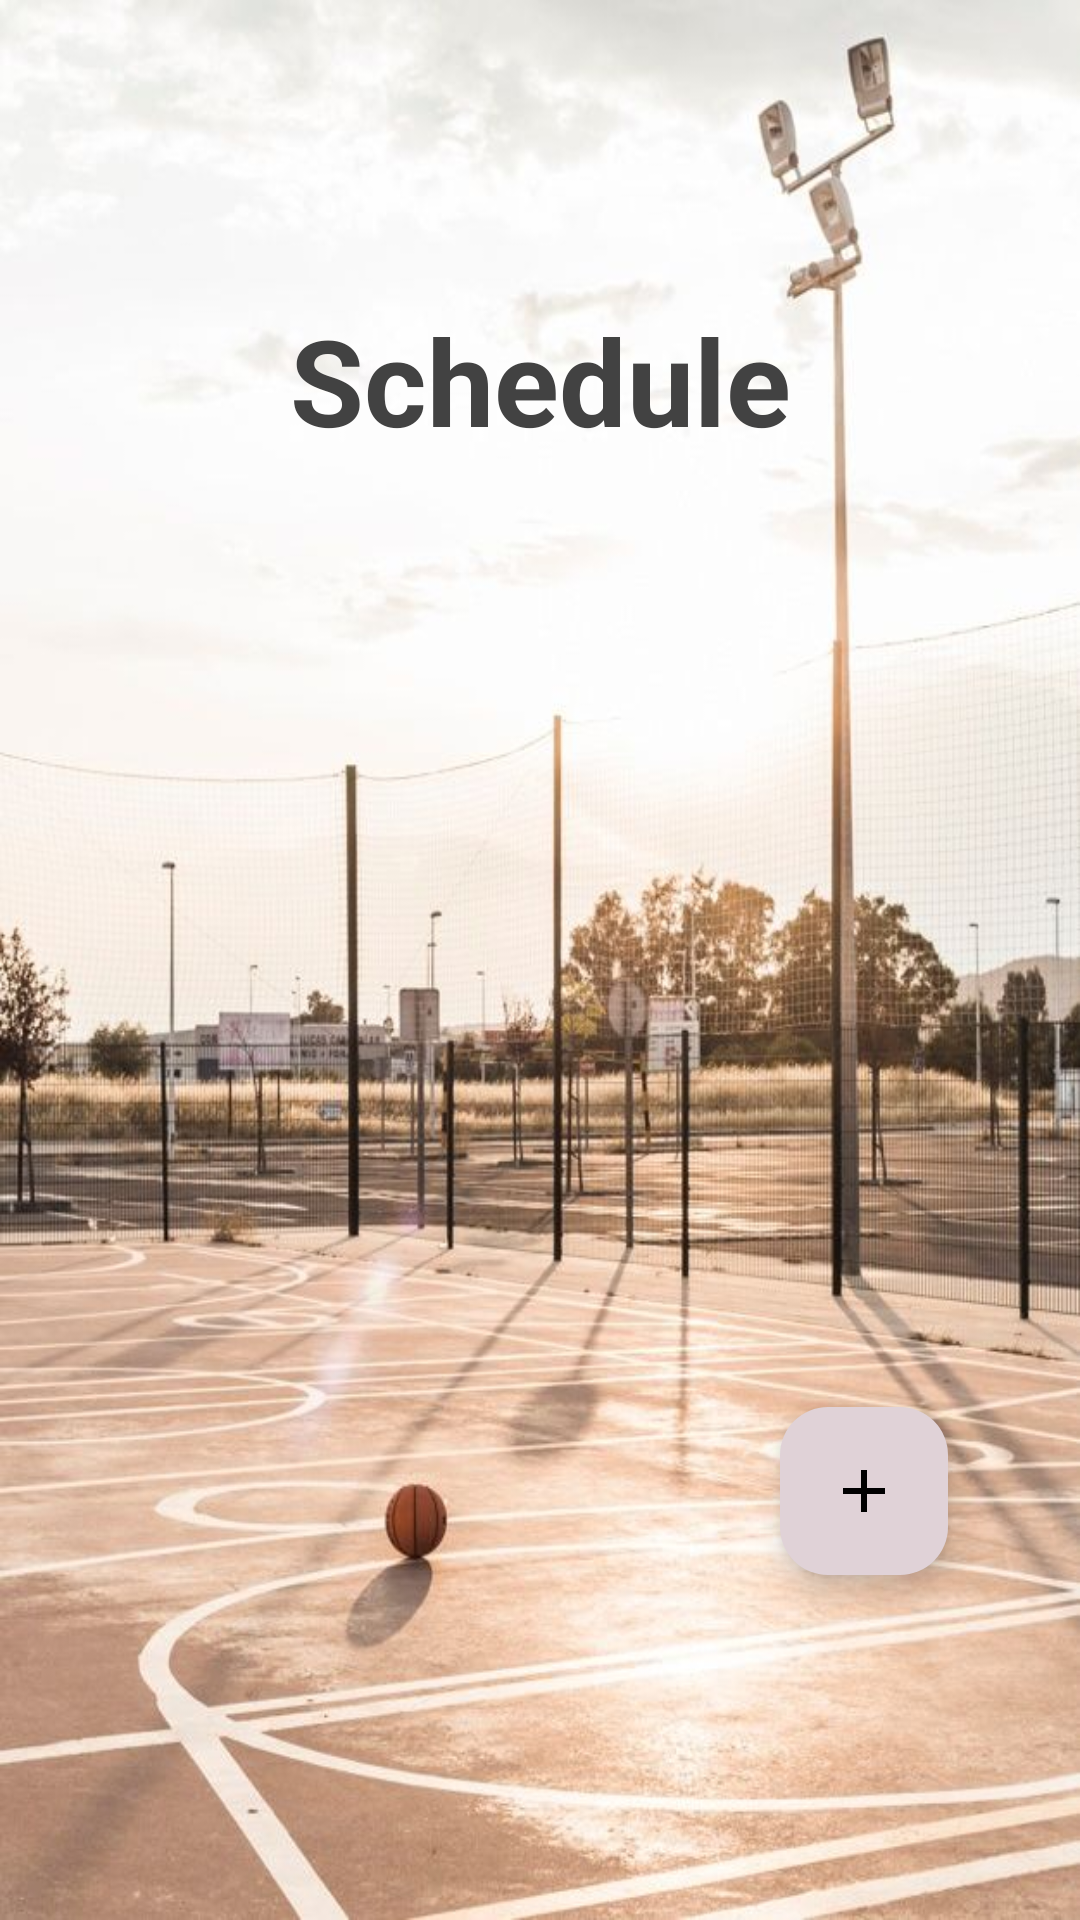

Screen size 1080×1920. Icon name, then its box in pixels as bbox=(x1, y1, x2, y2):
add: bbox=(780, 1407, 948, 1575)
